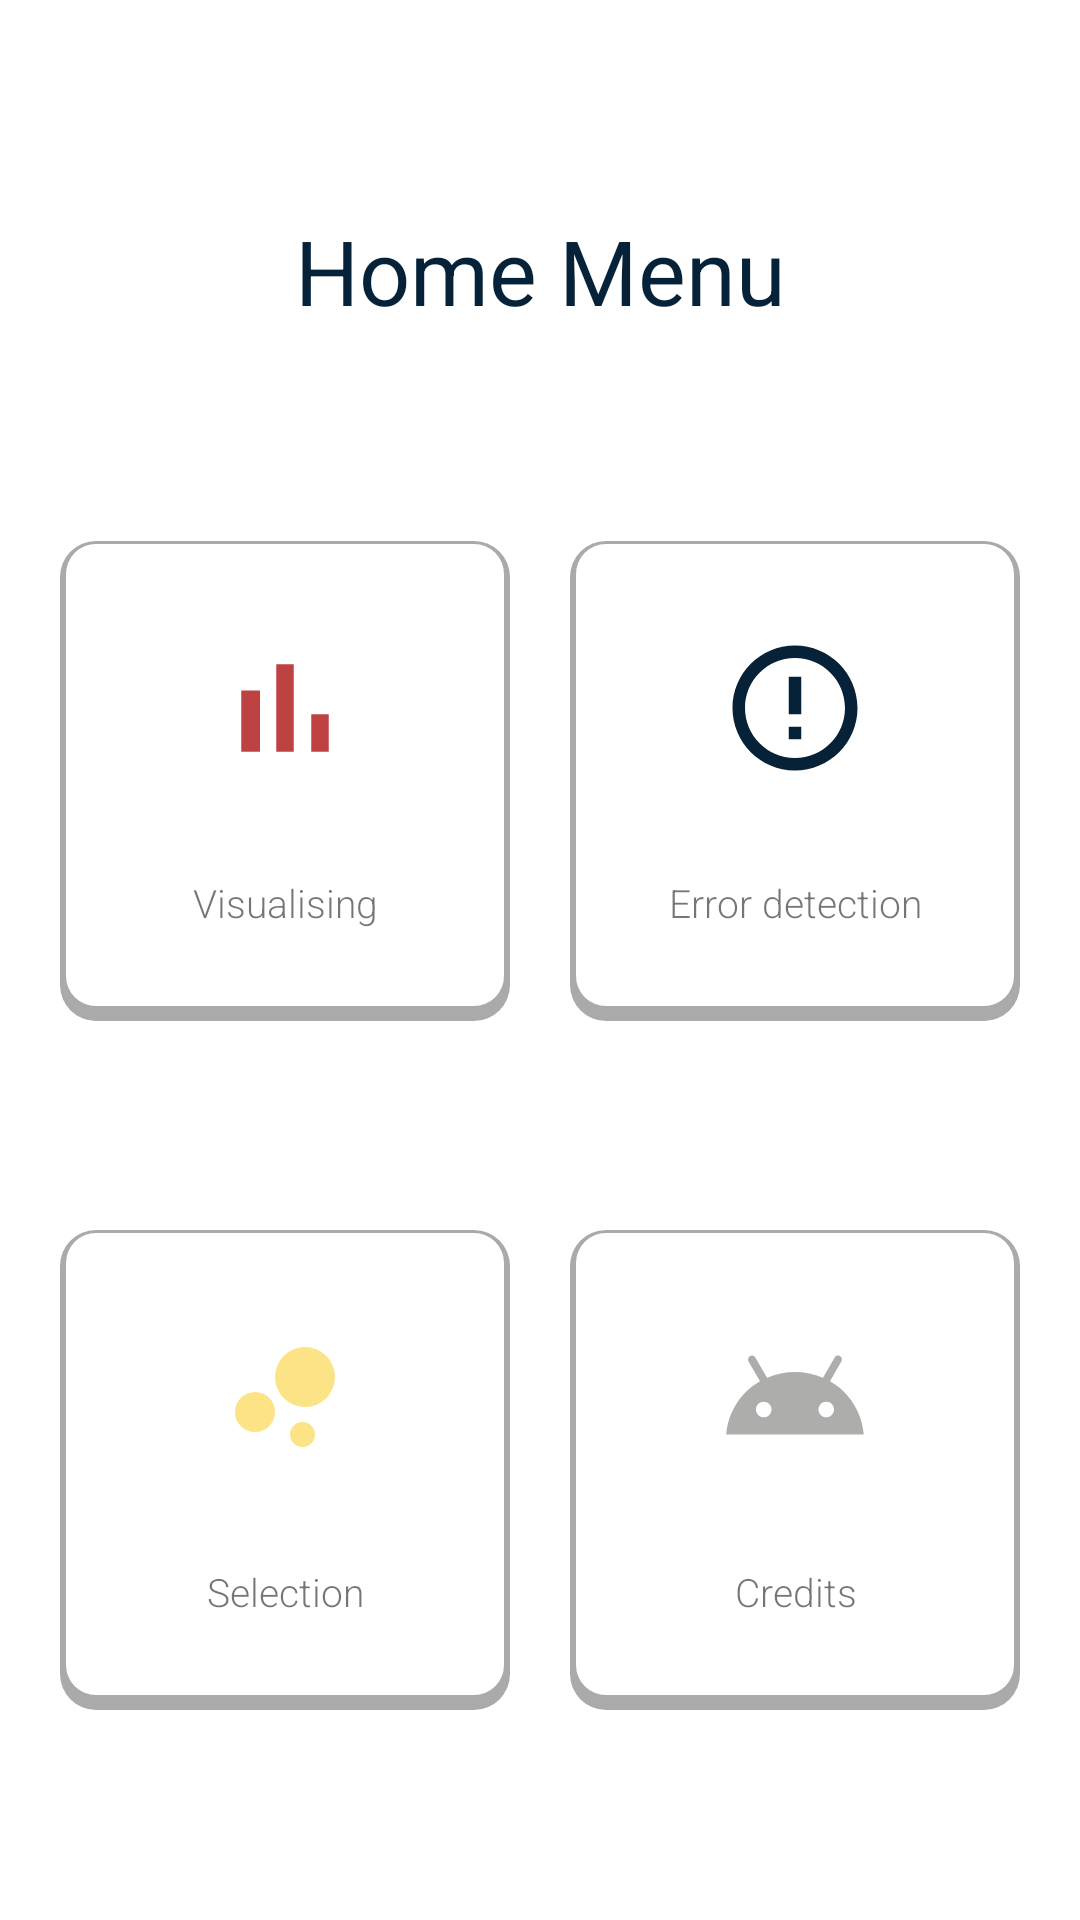

Named icons in this screenshot (1080 x 1920) and their centers, (x,y):
bar chart: (285,708)
bubble chart: (285,1397)
